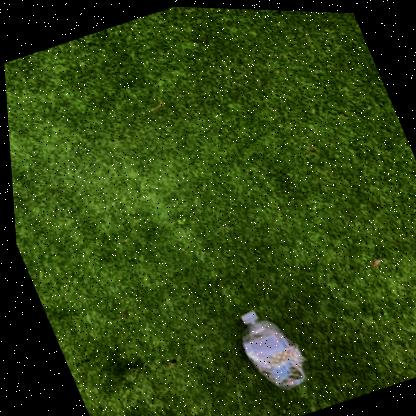Plastic: (236, 310, 303, 388)
